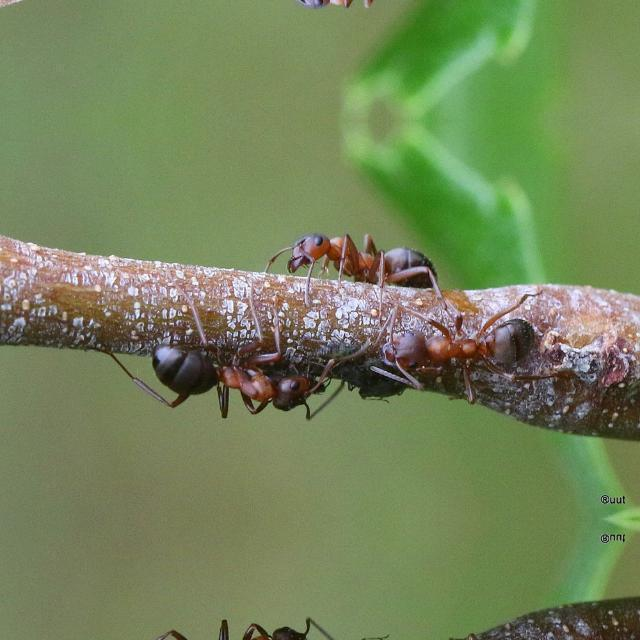Formica: (152, 296, 352, 424), (365, 279, 569, 401), (262, 206, 454, 308), (261, 0, 454, 34), (152, 610, 350, 640)
